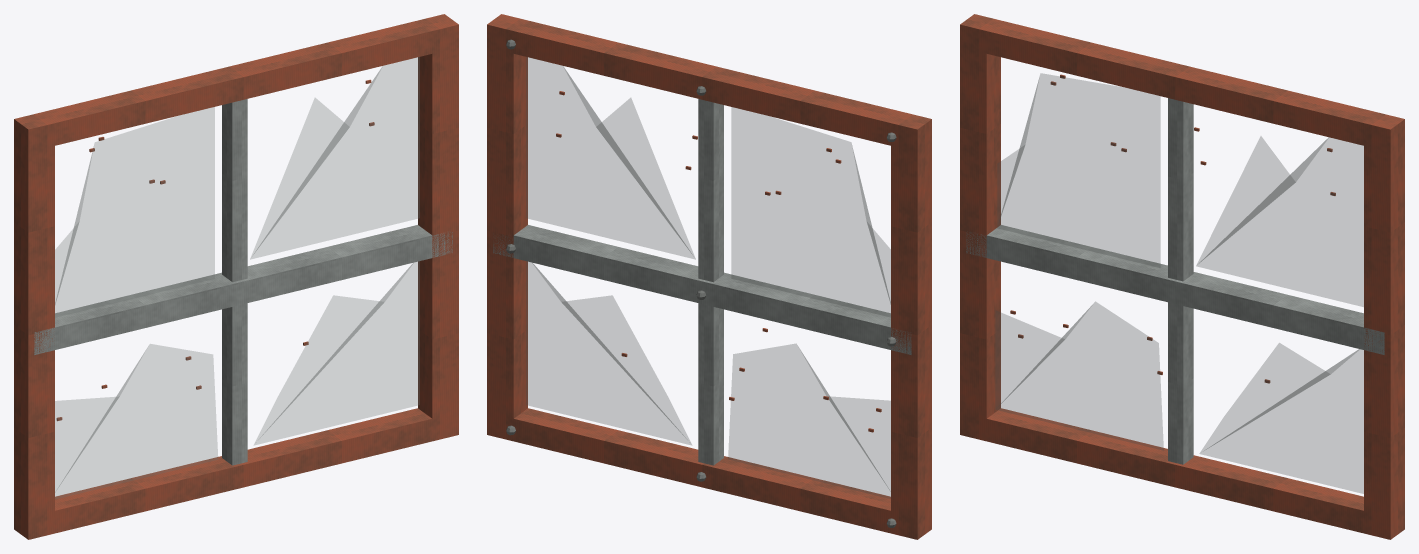
The model's file is broken_factory_window.glb.
3 views of the same model, side by side, from view 1: azimuth 30°, elevation 25°; view 2: azimuth 150°, elevation 25°; view 3: azimuth 330°, elevation 25° (orthographic).
Parts seen in each view (by area): view 1: AshfallDecorativeProp; view 2: AshfallDecorativeProp; view 3: AshfallDecorativeProp.
Part boxes in pixels (x1,y1,x2,y2): AshfallDecorativeProp: [14, 14, 458, 539]; AshfallDecorativeProp: [487, 14, 931, 539]; AshfallDecorativeProp: [960, 14, 1404, 539].
Size of the model in its own units: 2.58 by 2.35 by 0.1863.
4 materials, 3 textured.
